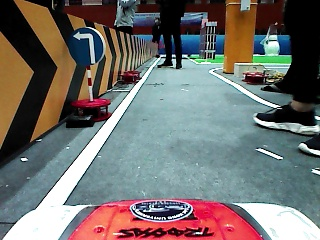turn: (64, 25, 107, 69)
